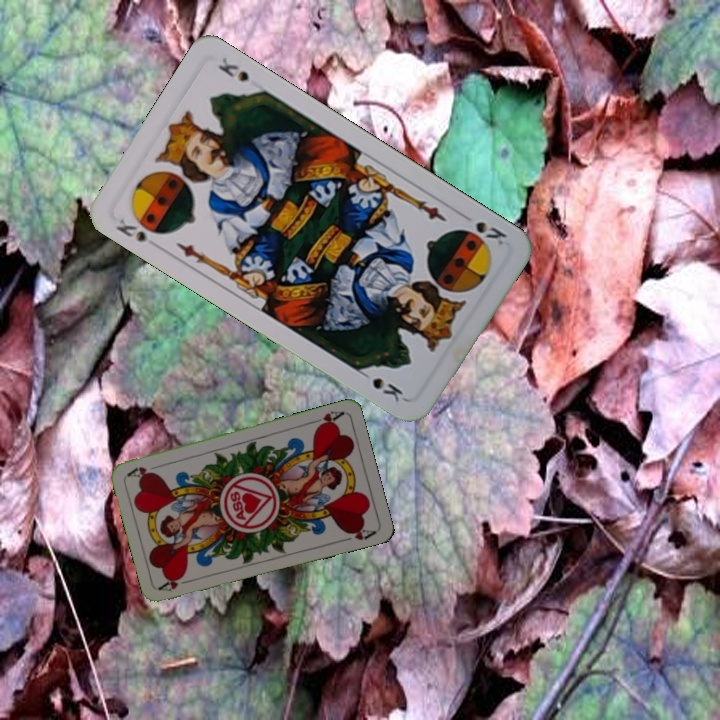HA: (306, 407, 346, 431), (156, 572, 196, 594)
SK: (111, 211, 166, 252), (471, 217, 510, 248)
